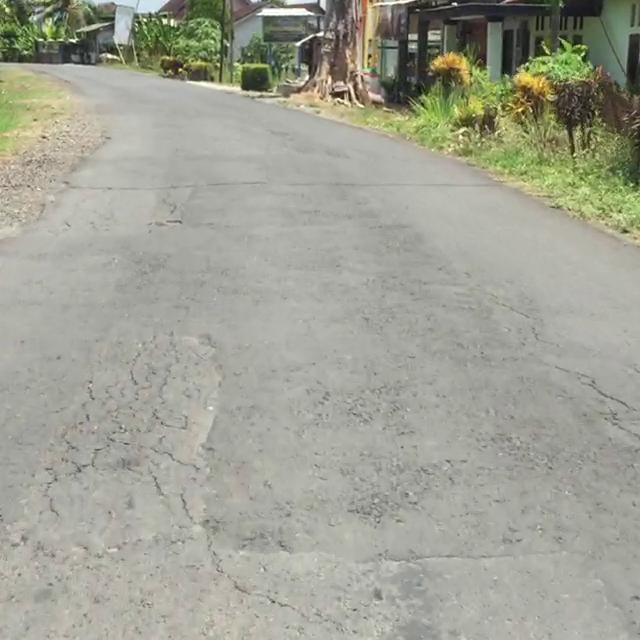retak_kulit_buaya: (51, 331, 204, 513)
retak_memanjang: (542, 354, 640, 519)
